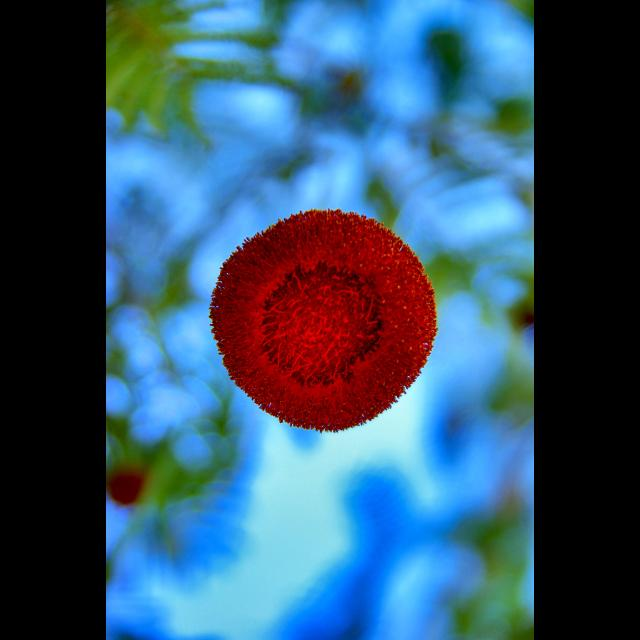Flower: (203, 188, 427, 428)
